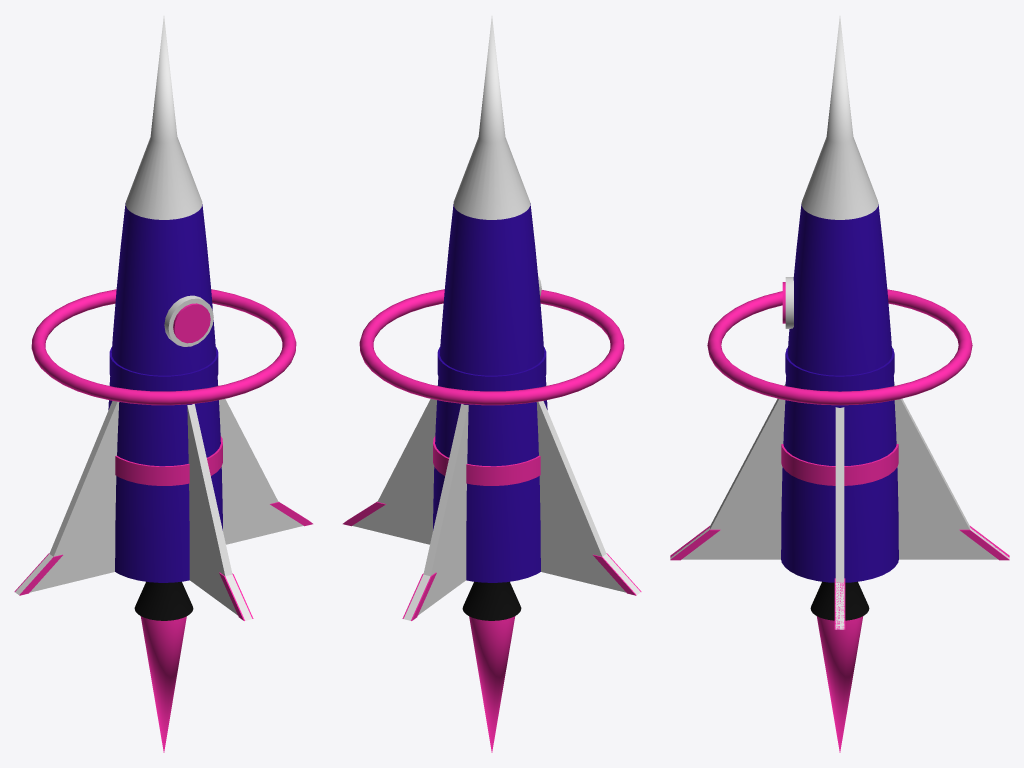
File: Rocket_39_NebulaLance.obj
3 renders of one model, left to right at view 1: azimuth 30°, elevation 25°; view 2: azimuth 150°, elevation 25°; view 3: azimuth 270°, elevation 25°, orthographic.
Visible parts, largest first — view 1: R39_Body, R39_Fin_2, R39_Halo_1, R39_Nose, R39_Fin_3, R39_Fin_4, R39_Flame_1, R39_Band_2, R39_Band_1, R39_Nozzle_1, R39_Window_1, R39_WindowFrame_1; view 2: R39_Body, R39_Fin_2, R39_Halo_1, R39_Nose, R39_Fin_1, R39_Fin_4, R39_Flame_1, R39_Band_2, R39_Band_1, R39_Nozzle_1; view 3: R39_Body, R39_Fin_1, R39_Fin_3, R39_Halo_1, R39_Nose, R39_Flame_1, R39_Band_1, R39_Fin_4, R39_Band_2, R39_Nozzle_1.
Part boxes in pixels (x1=…): R39_Body: x1=108, y1=203, x2=222, y2=582; R39_Fin_2: x1=15, y1=401, x2=119, y2=594; R39_Halo_1: x1=31, y1=289, x2=296, y2=405; R39_Nose: x1=125, y1=16, x2=202, y2=219; R39_Fin_3: x1=187, y1=404, x2=252, y2=620; R39_Fin_4: x1=218, y1=385, x2=303, y2=544; R39_Flame_1: x1=140, y1=616, x2=186, y2=752; R39_Band_2: x1=109, y1=347, x2=218, y2=391; R39_Band_1: x1=115, y1=436, x2=222, y2=485; R39_Nozzle_1: x1=134, y1=581, x2=193, y2=620; R39_Window_1: x1=173, y1=303, x2=210, y2=343; R39_WindowFrame_1: x1=164, y1=295, x2=213, y2=346; R39_Body: x1=433, y1=203, x2=547, y2=582; R39_Fin_2: x1=536, y1=401, x2=640, y2=594; R39_Halo_1: x1=359, y1=289, x2=624, y2=405; R39_Nose: x1=453, y1=16, x2=530, y2=219; R39_Fin_1: x1=403, y1=404, x2=468, y2=620; R39_Fin_4: x1=352, y1=385, x2=437, y2=544; R39_Flame_1: x1=469, y1=616, x2=515, y2=752; R39_Band_2: x1=437, y1=347, x2=546, y2=391; R39_Band_1: x1=433, y1=436, x2=540, y2=485; R39_Nozzle_1: x1=462, y1=581, x2=521, y2=620; R39_Body: x1=781, y1=204, x2=898, y2=582; R39_Fin_1: x1=894, y1=384, x2=1009, y2=559; R39_Fin_3: x1=670, y1=384, x2=785, y2=559; R39_Halo_1: x1=707, y1=289, x2=972, y2=405; R39_Nose: x1=801, y1=16, x2=878, y2=219; R39_Flame_1: x1=816, y1=616, x2=863, y2=752; R39_Band_1: x1=781, y1=444, x2=898, y2=485; R39_Fin_4: x1=835, y1=407, x2=844, y2=629; R39_Band_2: x1=785, y1=347, x2=894, y2=391; R39_Nozzle_1: x1=810, y1=581, x2=869, y2=620.
Bounding box in the file's own units: 4.86 × 11.7 × 4.86.
